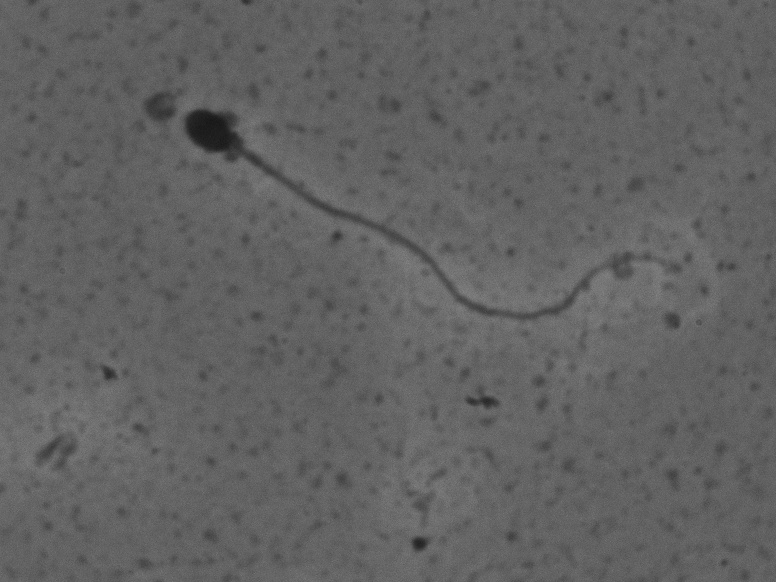Normal: (177, 69, 686, 355)
